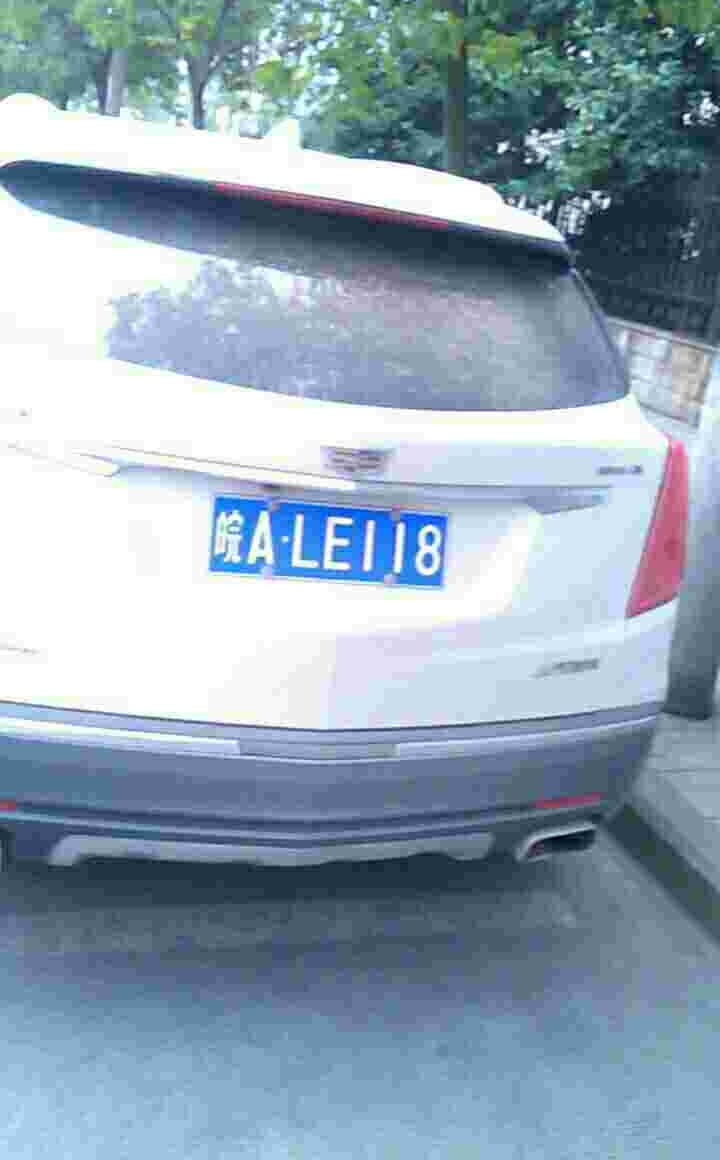license_plate: (214, 501, 450, 584)
